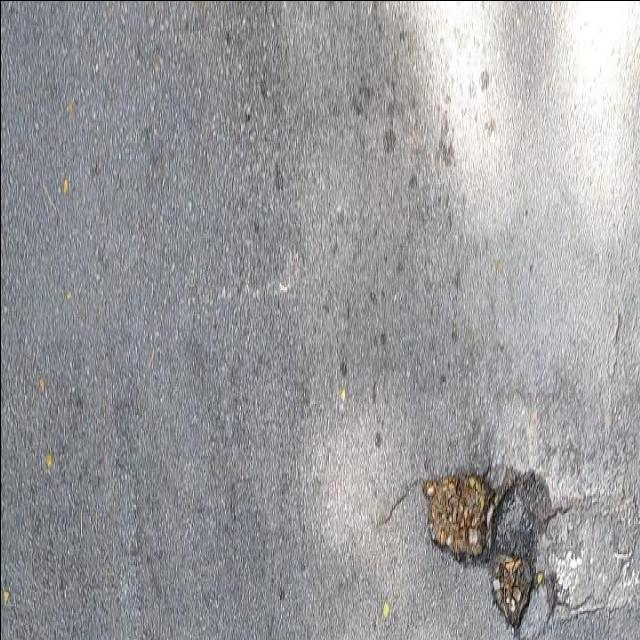potholes: (356, 407, 638, 640)
